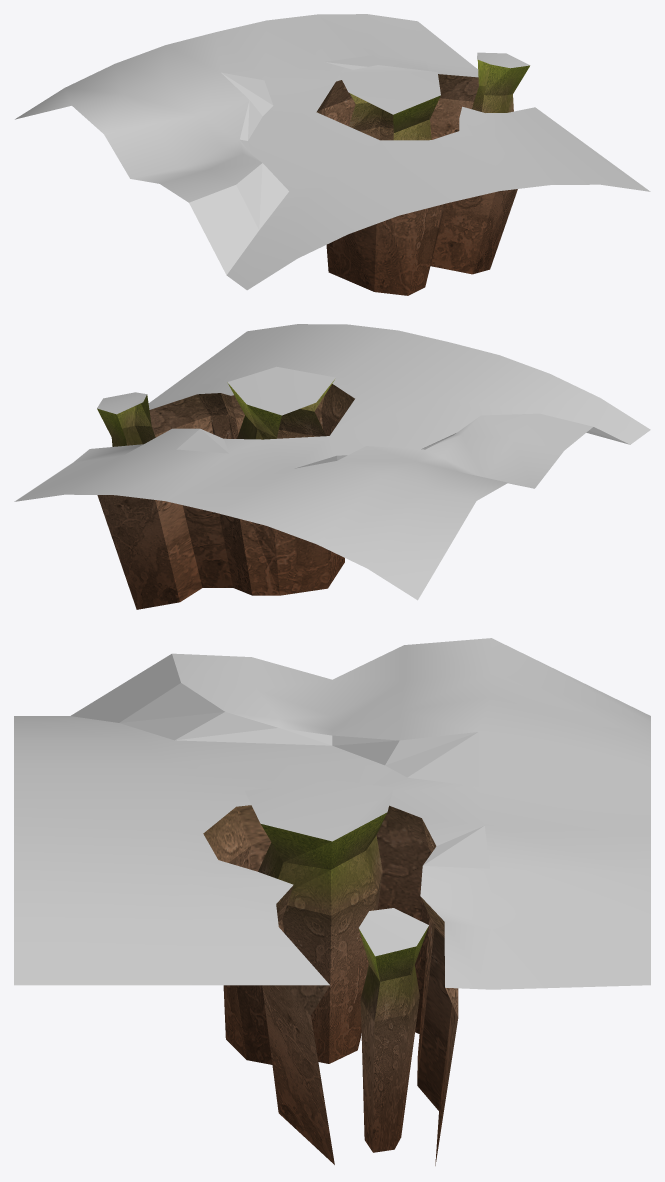
The model's file is Bigmap_dibiao03.FBX.
The picture shows the model from 3 angles, top to bottom: view 1: azimuth 30°, elevation 25°; view 2: azimuth 150°, elevation 25°; view 3: azimuth 270°, elevation 25°; orthographic projection. The views are drawn at different scales.
Visible parts, largest first — view 1: Object44, Object27; view 2: Object44, Object27; view 3: Object44, Object27.
Boxes of the visible parts, x1,y1,x2,y2 form: Object44: (15,14,650,295); Object27: (472,52,530,112); Object44: (14,324,650,609); Object27: (97,392,155,446); Object44: (14,638,650,1165); Object27: (358,908,428,1152).
Size of the model in its own units: 515 by 255 by 500.
